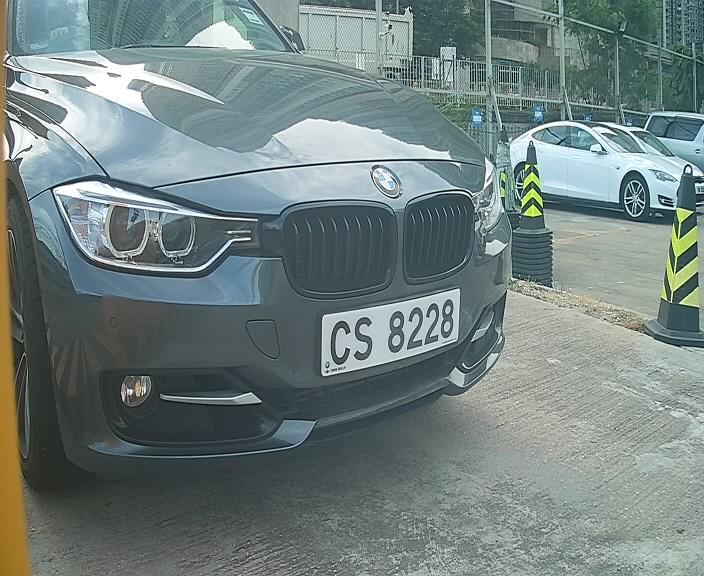License Plate: (312, 281, 463, 384)
